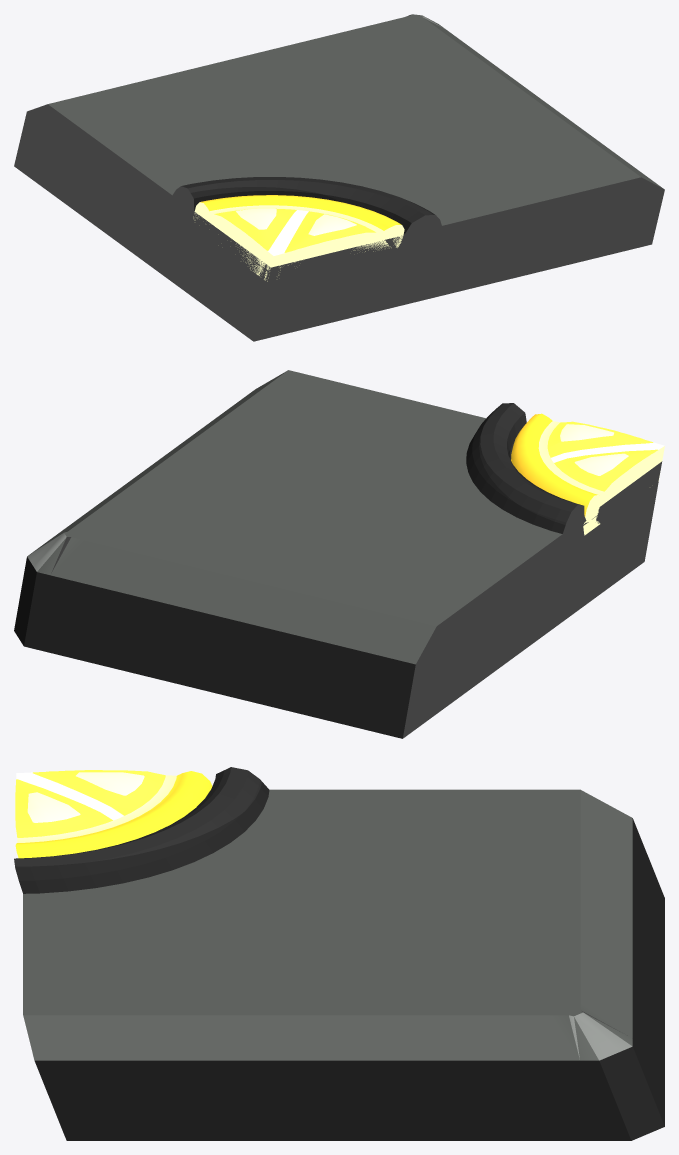
Rendered from pineapple_167.glb.
3 views of the same model, one above another, from view 1: azimuth 30°, elevation 25°; view 2: azimuth 150°, elevation 25°; view 3: azimuth 270°, elevation 25° (orthographic). The views are drawn at different scales.
Parts seen in each view (by area): view 1: pineapple_167; view 2: pineapple_167; view 3: pineapple_167.
Part boxes in pixels (x1,y1,x2,y2): pineapple_167: (14,14,664,341); pineapple_167: (14,370,664,738); pineapple_167: (14,767,664,1140).
Bounding box in the file's own units: 24 × 6.21 × 27.2.
